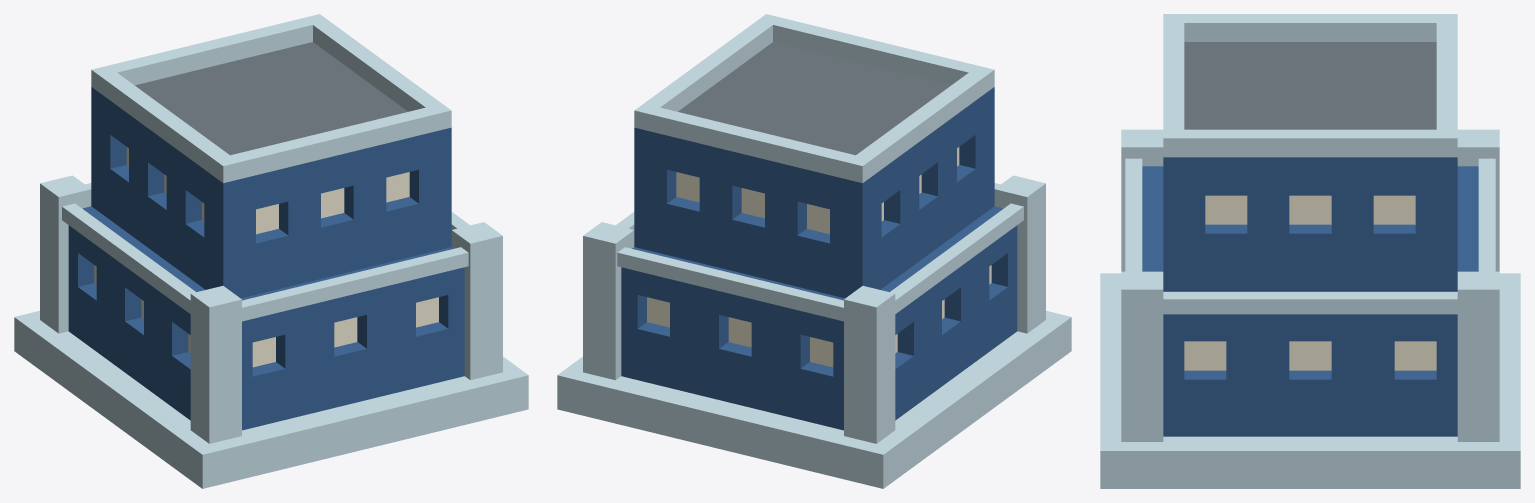
Rendered from Building_6_Base (Blue).obj.
The picture shows the model from 3 angles, left to right: view 1: azimuth 30°, elevation 25°; view 2: azimuth 150°, elevation 25°; view 3: azimuth 270°, elevation 25°; orthographic projection. The views are drawn at different scales.
Parts seen in each view (by area): view 1: Building_6_Base_(Blue); view 2: Building_6_Base_(Blue); view 3: Building_6_Base_(Blue).
Part boxes in pixels (box(x1,y1,x2,y2)): Building_6_Base_(Blue): box(14, 14, 528, 488); Building_6_Base_(Blue): box(557, 14, 1071, 488); Building_6_Base_(Blue): box(1100, 14, 1520, 488).
Bounding box in the file's own units: 2 × 1.7 × 2.
